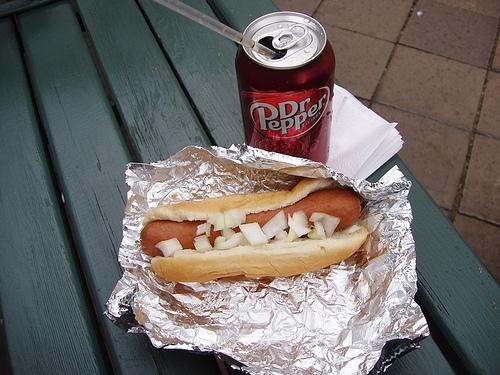onion: (284, 210, 312, 243), (261, 210, 289, 240), (309, 212, 340, 238), (238, 223, 270, 245), (288, 213, 312, 237), (214, 232, 244, 251), (155, 238, 183, 258), (193, 235, 213, 252), (170, 249, 200, 258), (207, 211, 221, 226), (308, 228, 324, 240), (224, 211, 234, 229), (314, 222, 325, 237), (196, 222, 207, 237), (239, 233, 251, 246), (214, 236, 227, 247), (348, 224, 361, 234), (274, 230, 288, 239), (238, 210, 246, 224), (206, 221, 212, 237)
